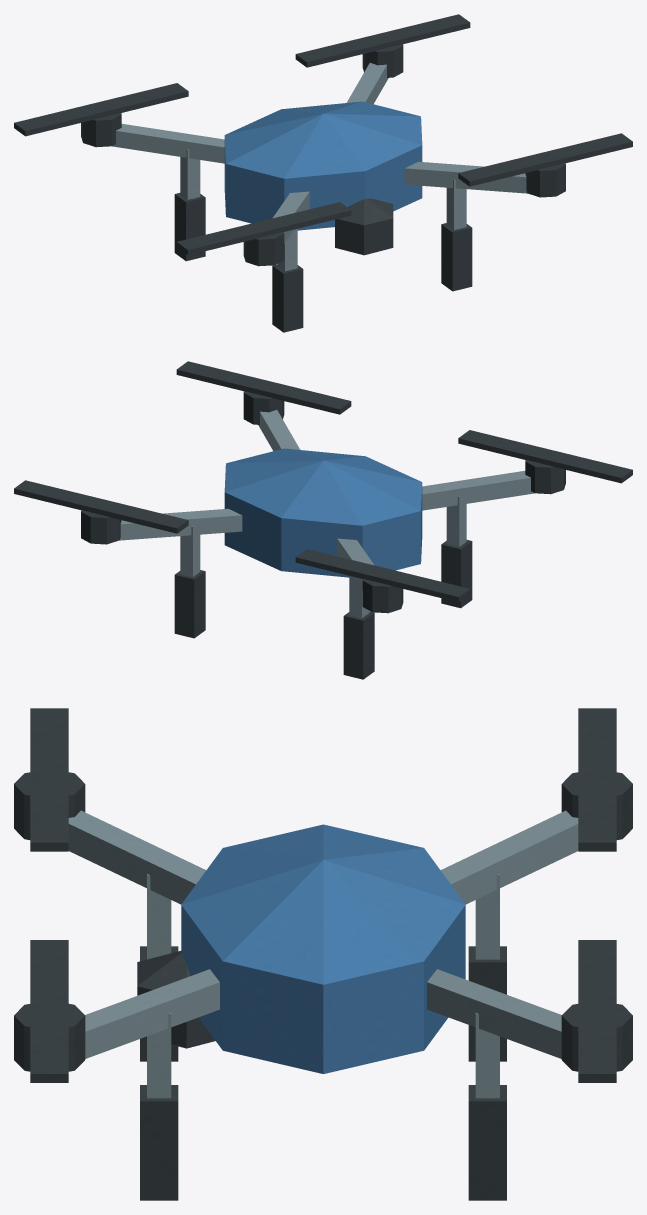
File: innescene-drone.glb
3 views of the same model, one above another, from view 1: azimuth 30°, elevation 25°; view 2: azimuth 150°, elevation 25°; view 3: azimuth 270°, elevation 25° (orthographic). The views are drawn at different scales.
Visible parts, largest first — view 1: Drone body 001, Rotor blade 004, Rotor blade 019, Rotor blade 014, Rotor blade 009, Drone camera 022, Rotor arm 007, Rotor arm 012, Landing foot 005, Landing foot 015, Landing foot 010, Rotor motor 003 (+8 smaller); view 2: Drone body 001, Rotor blade 009, Rotor blade 014, Rotor blade 019, Rotor blade 004, Rotor arm 002, Rotor arm 017, Landing foot 010, Landing foot 020, Landing foot 005, Rotor motor 008, Rotor motor 018 (+7 smaller); view 3: Drone body 001, Rotor arm 012, Rotor arm 017, Rotor arm 002, Rotor arm 007, Rotor blade 004, Rotor blade 009, Rotor blade 014, Rotor blade 019, Landing foot 015, Landing foot 020, Drone camera 022 (+9 smaller).
Boxes of the visible parts, <box> form: Drone body 001: <box>224,101,422,230</box>; Rotor blade 004: <box>176,202,351,255</box>; Rotor blade 019: <box>295,14,470,67</box>; Rotor blade 014: <box>458,133,632,186</box>; Rotor blade 009: <box>14,83,188,136</box>; Drone camera 022: <box>335,198,393,255</box>; Rotor arm 007: <box>112,123,224,163</box>; Rotor arm 012: <box>404,161,527,193</box>; Landing foot 005: <box>272,264,303,332</box>; Landing foot 015: <box>441,223,472,291</box>; Landing foot 010: <box>174,193,205,261</box>; Rotor motor 003: <box>243,232,284,266</box>; Drone body 001: <box>224,448,422,577</box>; Rotor blade 009: <box>295,549,470,602</box>; Rotor blade 014: <box>176,361,351,414</box>; Rotor blade 019: <box>14,480,188,533</box>; Rotor blade 004: <box>458,430,632,483</box>; Rotor arm 002: <box>422,470,534,510</box>; Rotor arm 017: <box>119,508,242,540</box>; Landing foot 010: <box>343,611,374,679</box>; Landing foot 020: <box>174,570,205,638</box>; Landing foot 005: <box>441,540,472,608</box>; Rotor motor 008: <box>362,579,403,613</box>; Rotor motor 018: <box>81,510,121,544</box>; Drone body 001: <box>181,824,465,1073</box>; Rotor arm 012: <box>85,969,219,1058</box>; Rotor arm 017: <box>427,969,561,1058</box>; Rotor arm 002: <box>68,810,206,904</box>; Rotor arm 007: <box>440,810,578,904</box>; Rotor blade 004: <box>30,708,68,851</box>; Rotor blade 009: <box>578,708,616,851</box>; Rotor blade 014: <box>30,940,68,1082</box>; Rotor blade 019: <box>578,940,616,1082</box>; Landing foot 015: <box>140,1085,178,1200</box>; Landing foot 020: <box>468,1085,506,1200</box>; Drone camera 022: <box>137,951,215,1048</box>.
Size of the model in its own units: 1.58 by 0.53 by 1.13.
Materials: 3 (3 with a texture image).
